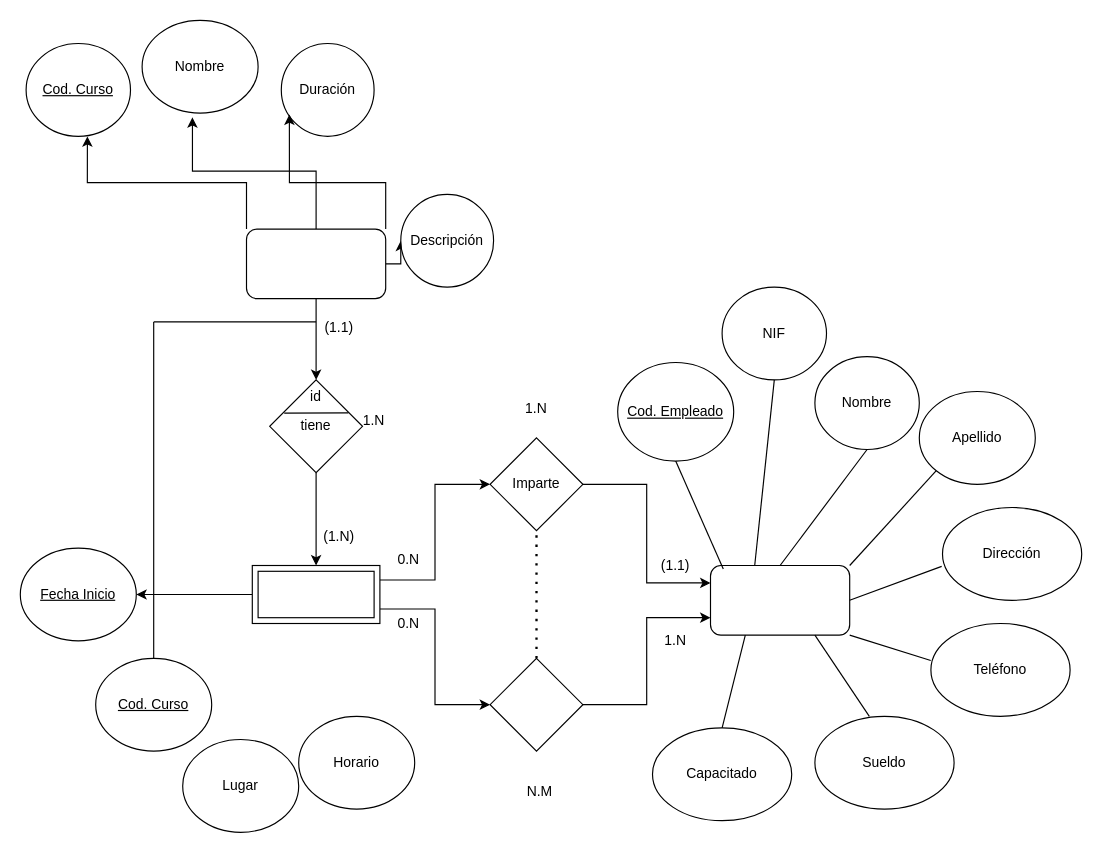
Image size: 1102x853. Some labels were removed from this diagram. Each missing label, with the centre of its shape:
Curso: the point at 315,263
Edición: the point at 315,594
Empleado: the point at 779,599
Recibe: the point at 536,704
